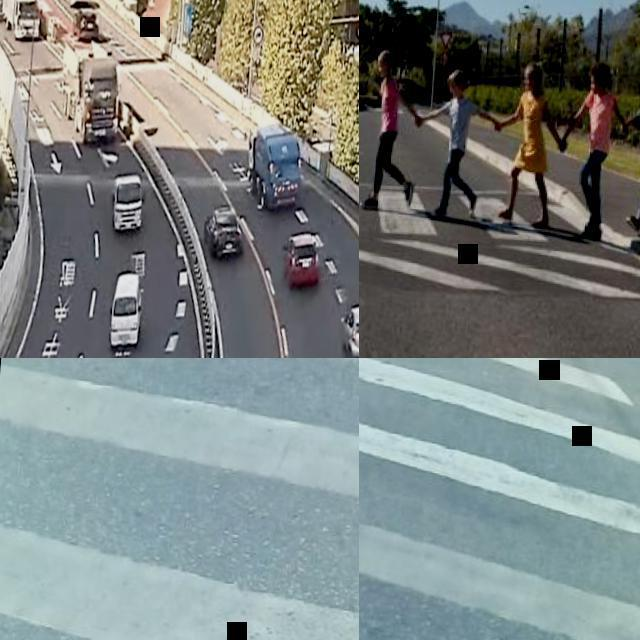car: (250, 128, 302, 209)
